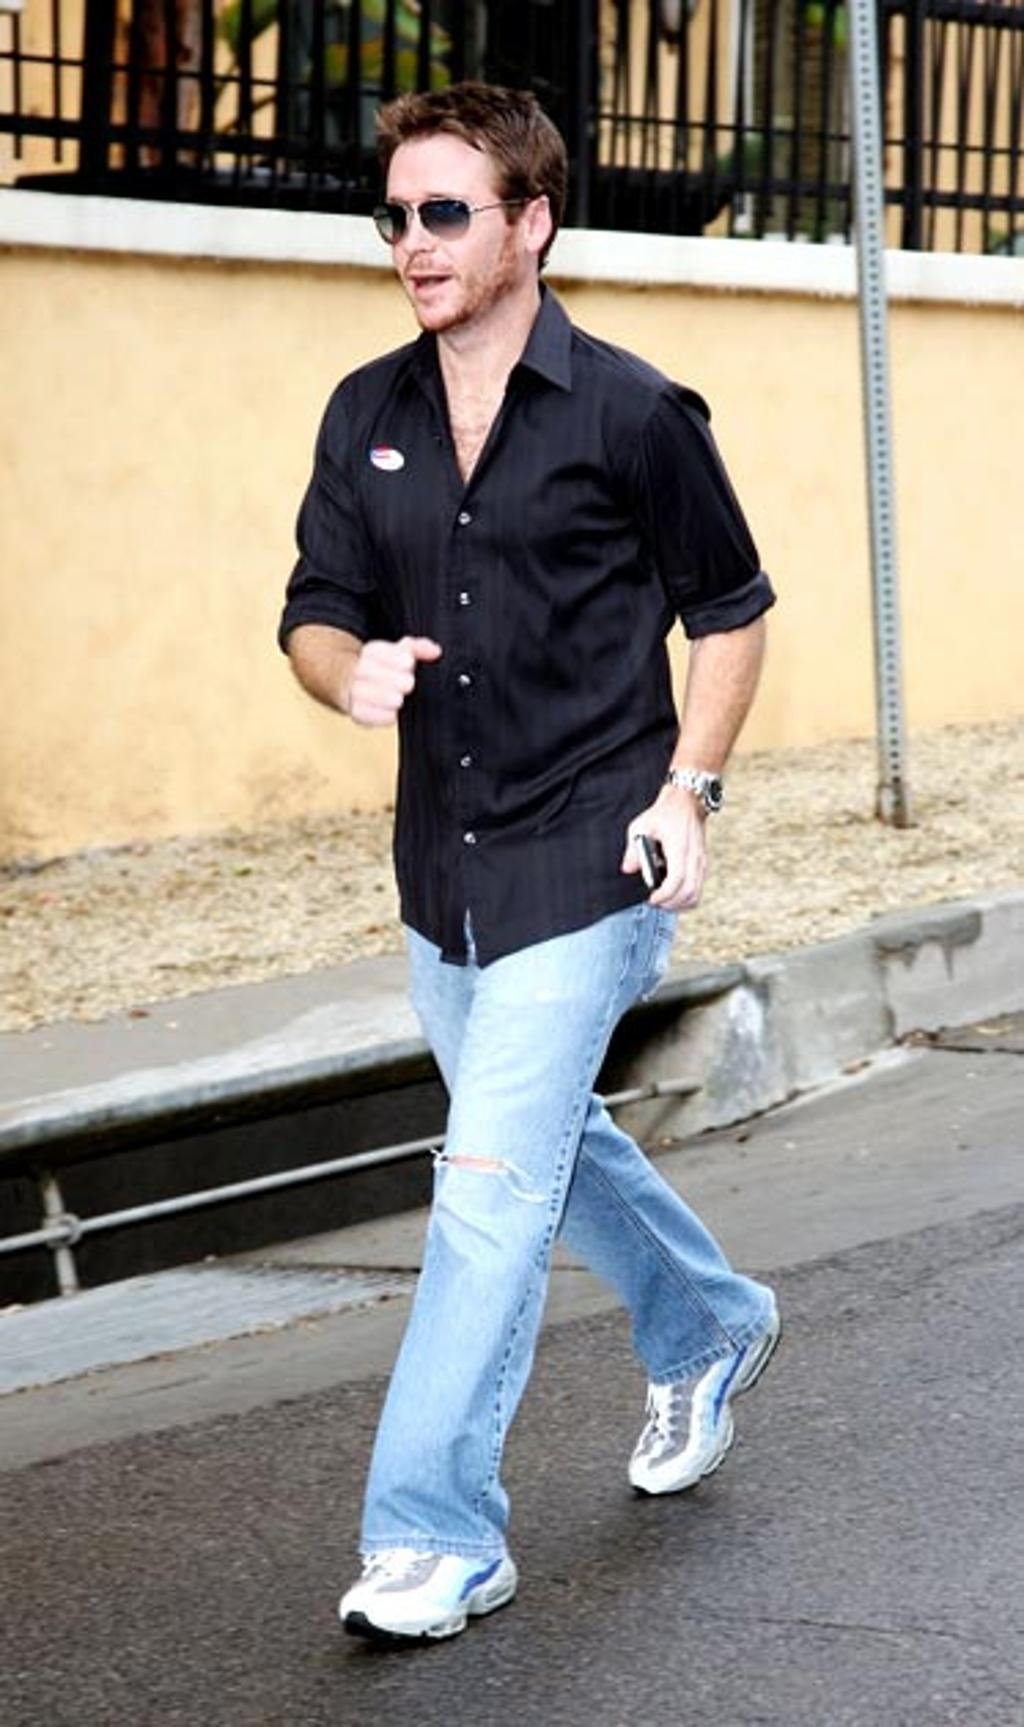face: (387, 131, 515, 323)
